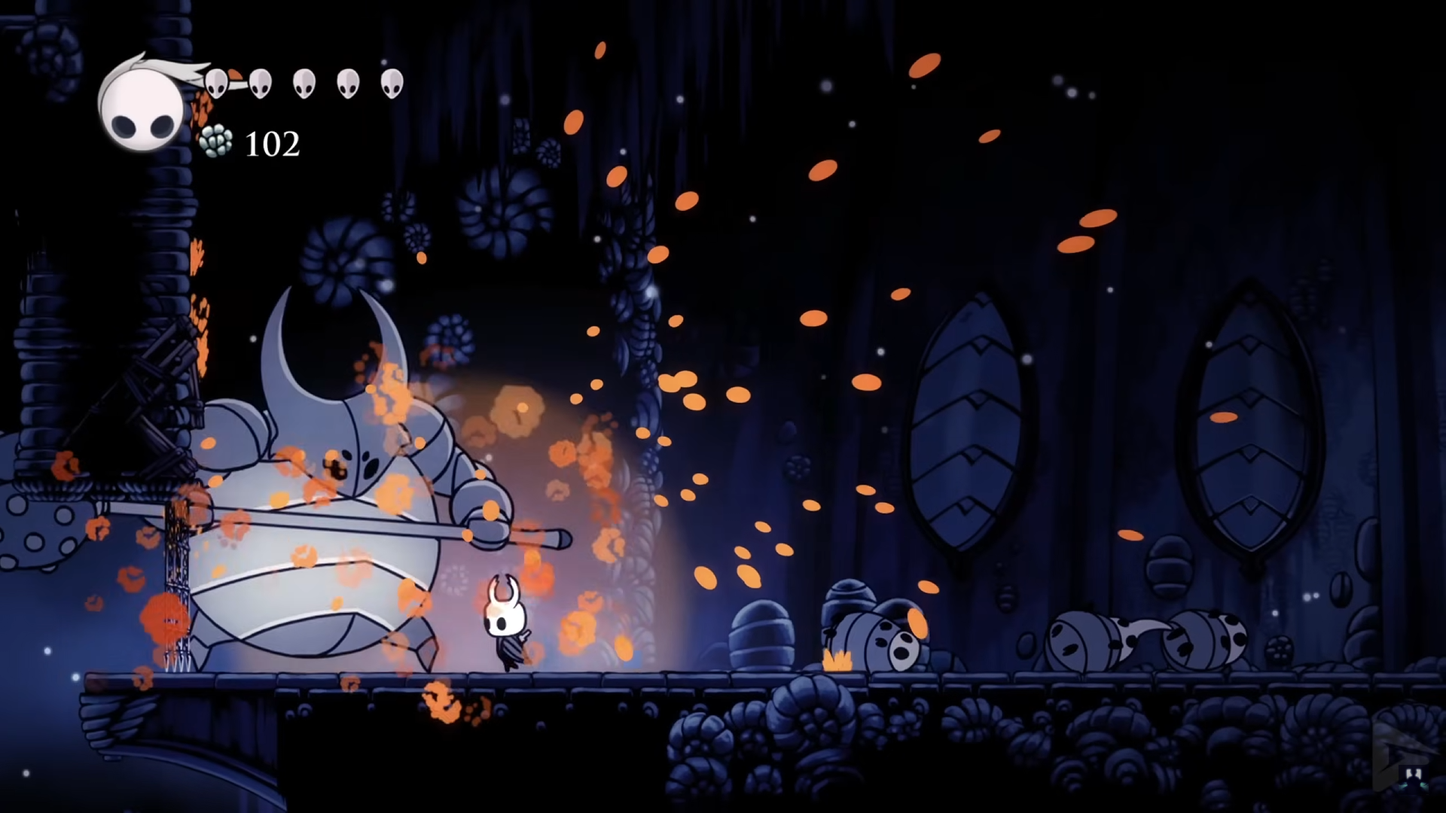HK: (480, 568, 535, 674)
